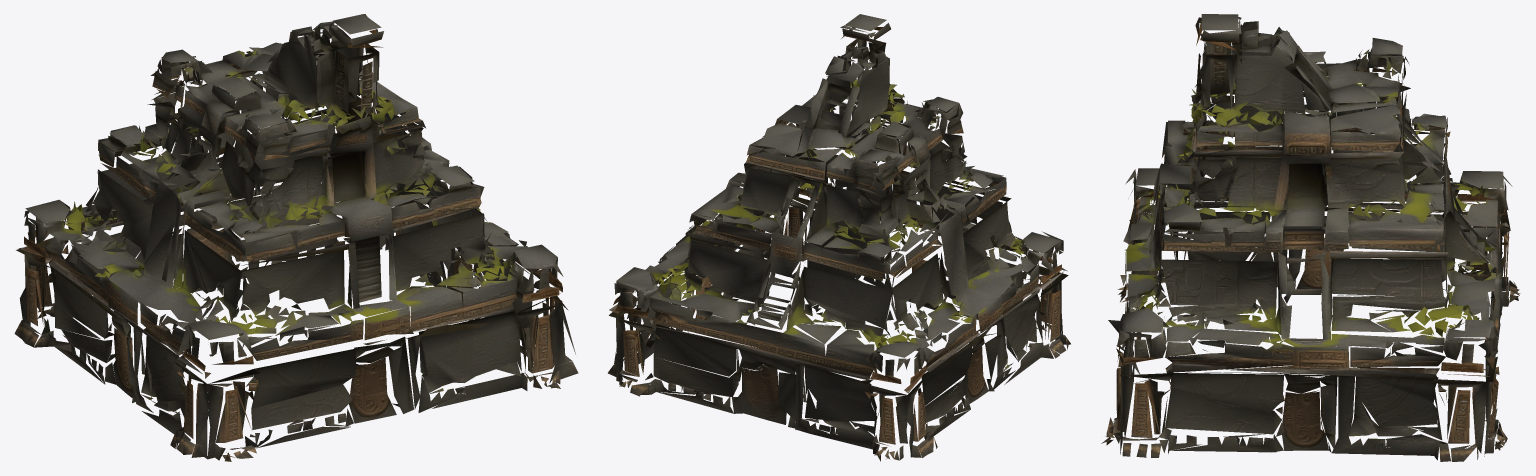
The model's file is ch7_terraced_ruins_LOD2.glb.
3 renders of one model, left to right at view 1: azimuth 30°, elevation 25°; view 2: azimuth 150°, elevation 25°; view 3: azimuth 270°, elevation 25°, orthographic. The views are drawn at different scales.
Parts seen in each view (by area): view 1: tripo_node_85571fa6-29fd-4f36-8f6d-fa6e21ac3b30; view 2: tripo_node_85571fa6-29fd-4f36-8f6d-fa6e21ac3b30; view 3: tripo_node_85571fa6-29fd-4f36-8f6d-fa6e21ac3b30.
Boxes of the visible parts, x1,y1,x2,y2 form: tripo_node_85571fa6-29fd-4f36-8f6d-fa6e21ac3b30: [14, 14, 578, 461]; tripo_node_85571fa6-29fd-4f36-8f6d-fa6e21ac3b30: [608, 14, 1070, 461]; tripo_node_85571fa6-29fd-4f36-8f6d-fa6e21ac3b30: [1101, 14, 1520, 461].
Size of the model in its own units: 1.01 by 0.9164 by 0.9688.
Materials: 1 (1 with a texture image).
